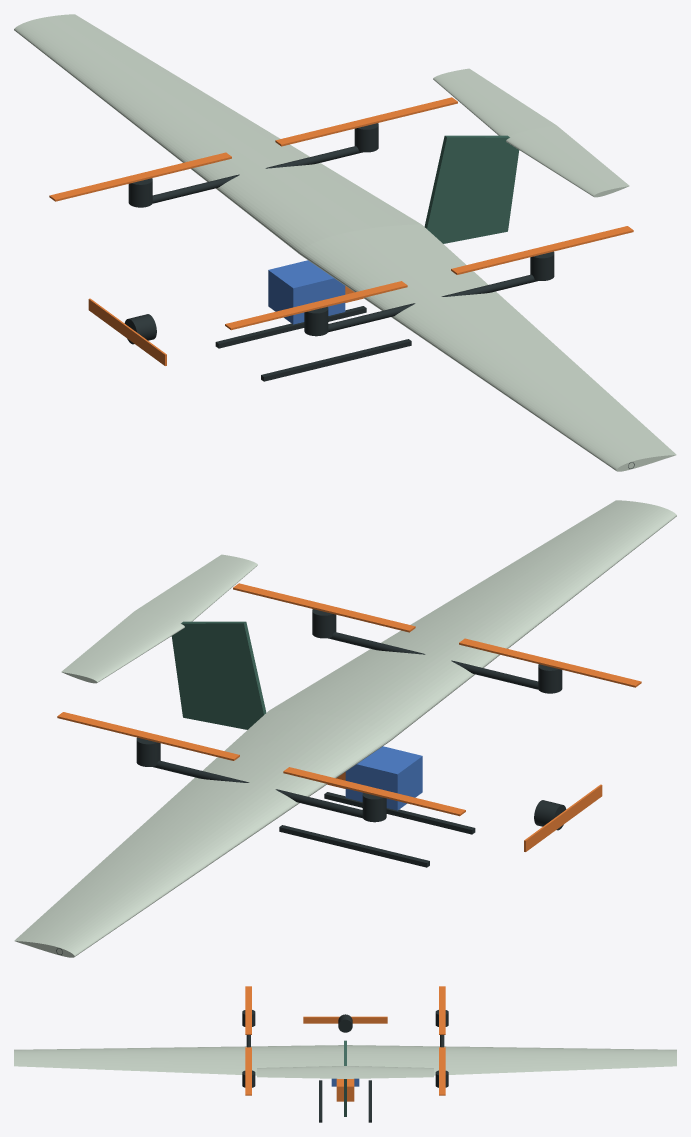
Rendered from 10-internal.glb.
3 views of the same model, one above another, from view 1: azimuth 30°, elevation 25°; view 2: azimuth 150°, elevation 25°; view 3: azimuth 270°, elevation 25° (orthographic). The views are drawn at different scales.
Parts seen in each view (by area): view 1: wing-1, wing1, fin, tail-1, tail1, payload, prop_-1_180.0, prop_1_180.0, prop_-1_700.0, prop_1_700.0, boom-1, boom1 (+3 smaller); view 2: wing1, wing-1, fin, tail1, tail-1, payload, prop_1_180.0, prop_-1_180.0, prop_-1_700.0, prop_1_700.0, boom1, boom-1 (+3 smaller); view 3: wing-1, wing1, tail-1, tail1, cruise_prop, battery, prop_-1_180.0, prop_-1_700.0, prop_1_180.0, prop_1_700.0, cruise_motor.
Part boxes in pixels (<box>): wing-1: <box>300,224,676,471</box>; wing1: <box>14,14,420,254</box>; fin: <box>424,135,519,243</box>; tail-1: <box>506,125,629,197</box>; tail1: <box>433,68,555,136</box>; payload: <box>268,260,345,324</box>; prop_-1_180.0: <box>225,281,407,330</box>; prop_1_180.0: <box>49,152,231,201</box>; prop_-1_700.0: <box>451,226,633,274</box>; prop_1_700.0: <box>275,97,457,146</box>; boom-1: <box>328,274,538,332</box>; boom1: <box>152,146,362,203</box>; wing1: <box>14,710,390,957</box>; wing-1: <box>270,500,676,740</box>; fin: <box>171,621,266,729</box>; tail1: <box>61,611,184,683</box>; tail-1: <box>135,554,257,622</box>; payload: <box>345,746,422,810</box>; prop_1_180.0: <box>283,767,465,816</box>; prop_-1_180.0: <box>459,638,641,687</box>; prop_-1_700.0: <box>233,583,415,632</box>; prop_1_700.0: <box>57,712,239,760</box>; boom1: <box>152,760,362,818</box>; boom-1: <box>328,632,538,689</box>; wing-1: <box>14,1045,343,1075</box>; wing1: <box>347,1045,676,1075</box>; tail-1: <box>257,1066,345,1078</box>; tail1: <box>345,1066,433,1078</box>; cruise_prop: <box>303,1016,387,1023</box>; battery: <box>336,1079,354,1101</box>; prop_-1_180.0: <box>245,986,251,1034</box>; prop_-1_700.0: <box>245,1047,251,1095</box>; prop_1_180.0: <box>439,986,445,1034</box>; prop_1_700.0: <box>439,1047,445,1095</box>; cruise_motor: <box>338,1014,352,1032</box>.
Size of the model in its own units: 989 by 390 by 2400.
